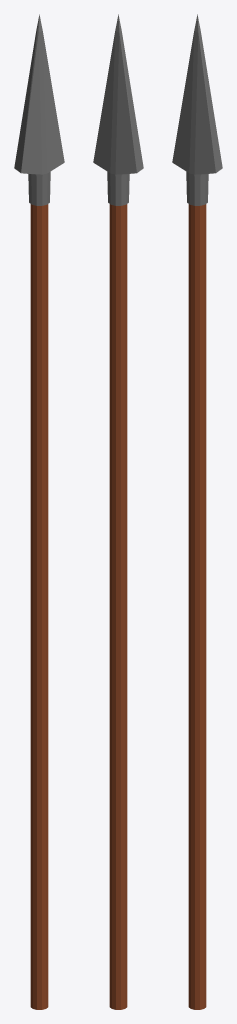
The model's file is Prop_Fantasy_Weapon_Spear_01.FBX.
3 views of the same model, side by side, from view 1: azimuth 30°, elevation 25°; view 2: azimuth 150°, elevation 25°; view 3: azimuth 330°, elevation 25° (orthographic).
Parts seen in each view (by area): view 1: Prop_Fantasy_Weapon_Spear_01; view 2: Prop_Fantasy_Weapon_Spear_01; view 3: Prop_Fantasy_Weapon_Spear_01.
Boxes of the visible parts, left/top/right/bottom form: Prop_Fantasy_Weapon_Spear_01: left=14, top=14, right=64, bottom=1009; Prop_Fantasy_Weapon_Spear_01: left=93, top=14, right=143, bottom=1009; Prop_Fantasy_Weapon_Spear_01: left=172, top=14, right=222, bottom=1009.
Bounding box in the file's own units: 101 × 2184 × 44.84.
